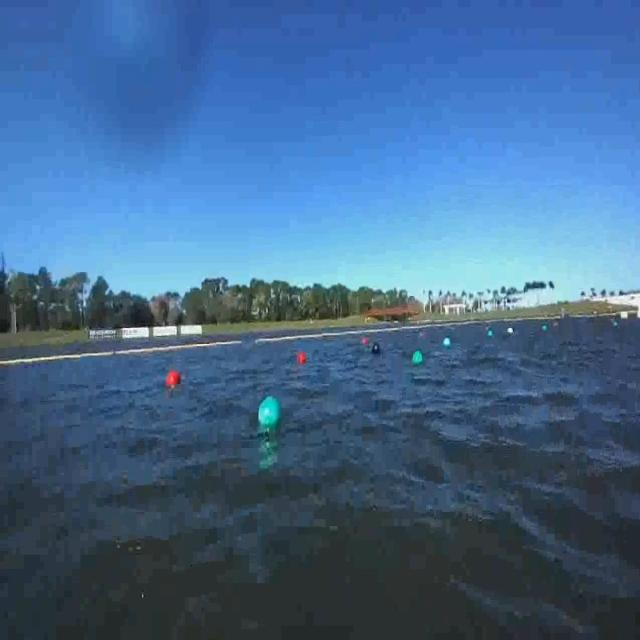black-buoy: (373, 344, 382, 356)
green-buoy: (258, 397, 282, 431), (413, 351, 424, 365)
red-buoy: (168, 371, 183, 388), (296, 352, 306, 365)
